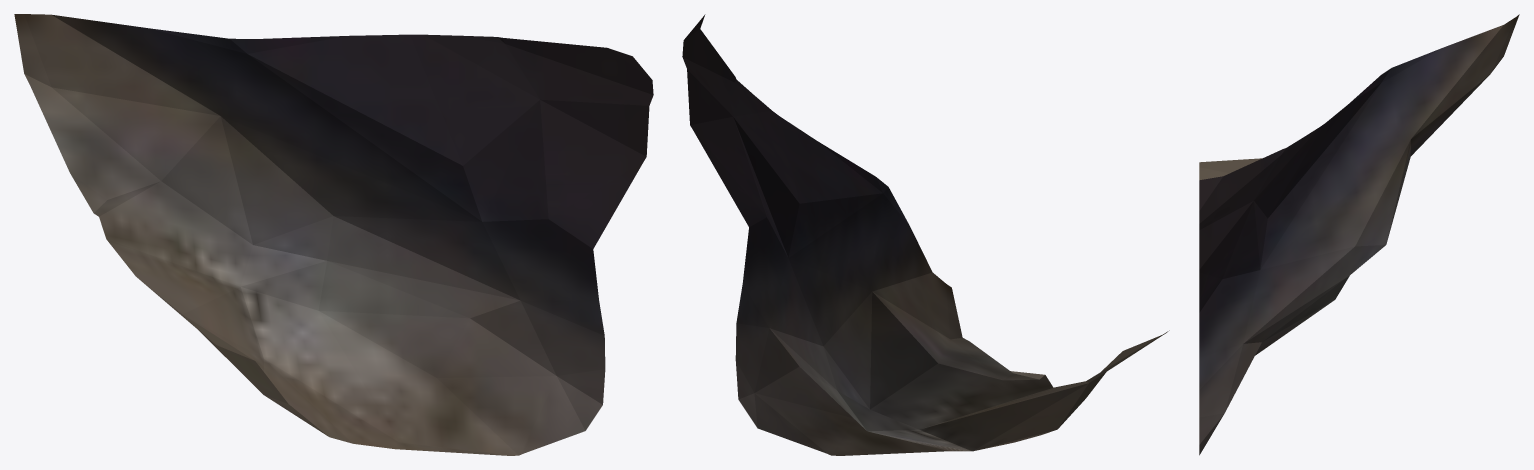
3 views of the same model, side by side, from view 1: azimuth 30°, elevation 25°; view 2: azimuth 150°, elevation 25°; view 3: azimuth 270°, elevation 25° (orthographic). The views are drawn at different scales.
Size of the model in its own units: 0.1649 by 0.1327 by 0.128.
1 material, 1 textured.
